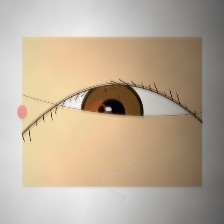foreign_body_visible: (109, 122, 129, 137)
